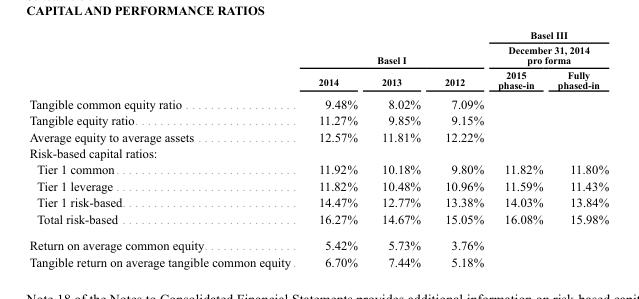table: (28, 28, 608, 268)
table column: (28, 28, 306, 268), (368, 28, 432, 268), (306, 28, 368, 268), (490, 28, 549, 268), (549, 28, 608, 268), (432, 28, 490, 268)
table column header: (28, 28, 608, 93)
table projected row header: (28, 144, 608, 160)
table row: (28, 28, 608, 67), (28, 67, 608, 93), (28, 231, 608, 253), (28, 210, 608, 231), (28, 93, 608, 111), (28, 111, 608, 128), (28, 160, 608, 177), (28, 193, 608, 210), (28, 128, 608, 144), (28, 144, 608, 160), (28, 177, 608, 193), (28, 253, 608, 268)
table spanning cell: (306, 28, 490, 67), (490, 28, 608, 67)
